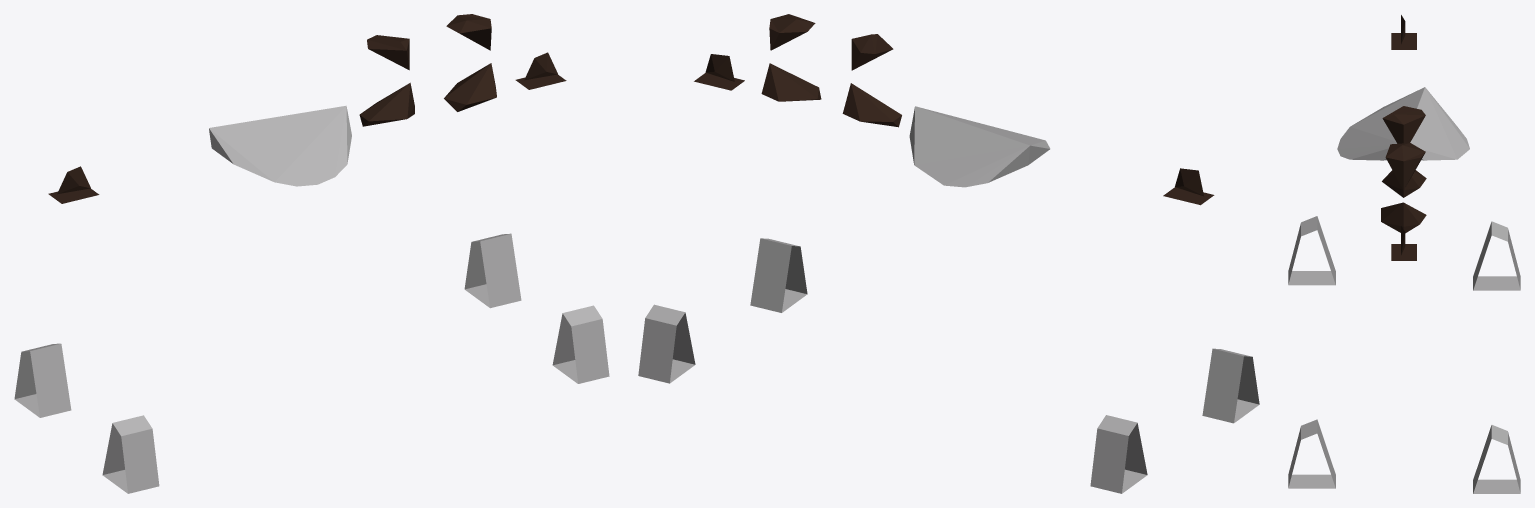
The model's file is propane-tank.lod2.glb.
3 views of the same model, side by side, from view 1: azimuth 30°, elevation 25°; view 2: azimuth 150°, elevation 25°; view 3: azimuth 270°, elevation 25° (orthographic). The views are drawn at different scales.
Visible parts, largest first — view 1: pSphere4_CRTank_White_0; view 2: pSphere4_CRTank_White_0; view 3: pSphere4_CRTank_White_0.
Boxes of the visible parts, x1,y1,x2,y2 form: pSphere4_CRTank_White_0: (14, 14, 609, 493); pSphere4_CRTank_White_0: (638, 14, 1259, 493); pSphere4_CRTank_White_0: (1288, 15, 1520, 493).
Size of the model in its own units: 2.03 by 1.27 by 0.8745.
